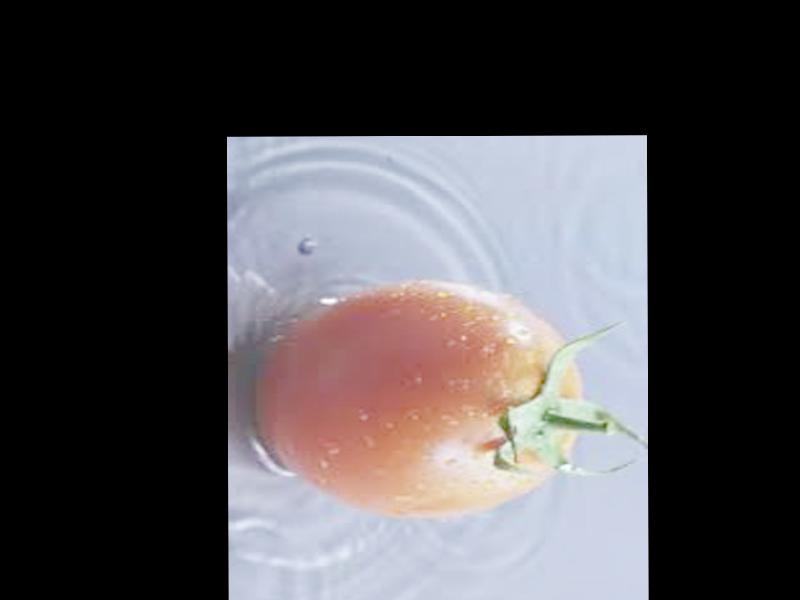Tomato: (255, 283, 580, 517)
